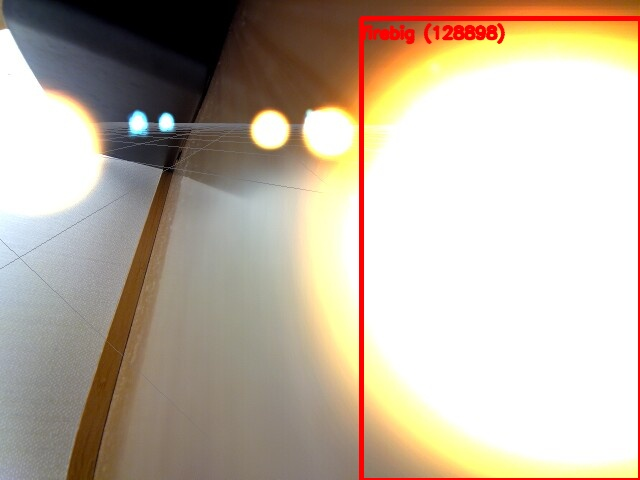firebig: (361, 18, 640, 480)
